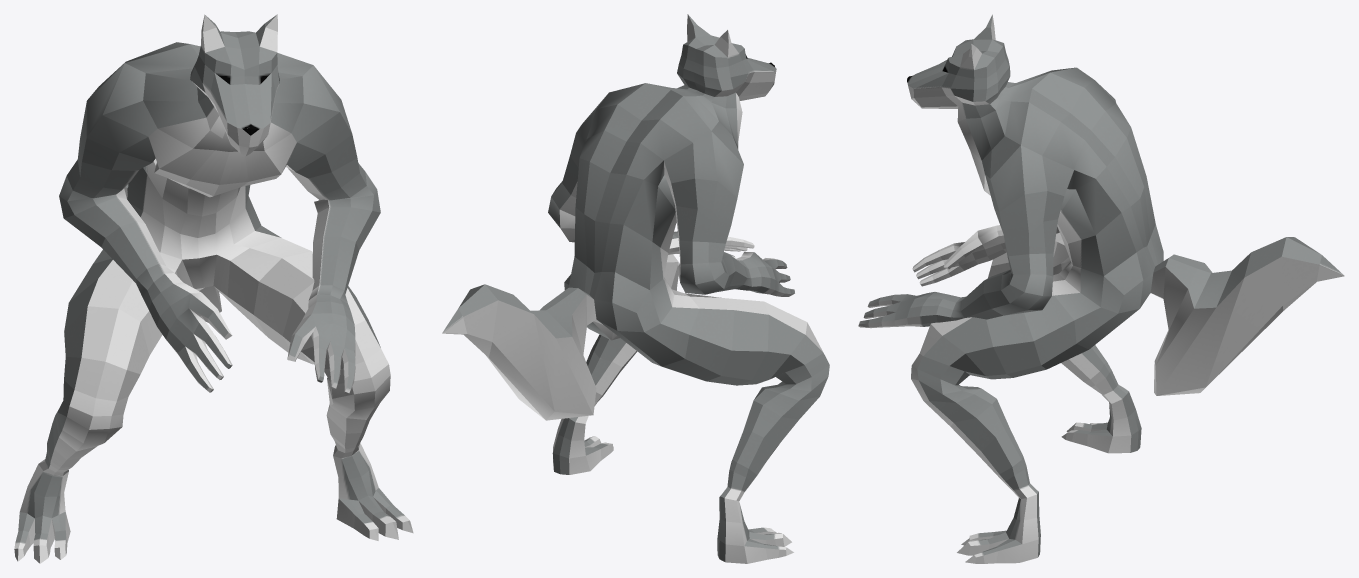
Rendered from WolfAttack(5).obj.
The picture shows the model from 3 angles, left to right: view 1: azimuth 30°, elevation 25°; view 2: azimuth 150°, elevation 25°; view 3: azimuth 270°, elevation 25°; orthographic projection. The views are drawn at different scales.
Visible parts, largest first — view 1: Box001; view 2: Box001; view 3: Box001.
Boxes of the visible parts, x1,y1,x2,y2 form: Box001: (14, 14, 413, 563); Box001: (442, 14, 829, 563); Box001: (858, 14, 1344, 563).
Bounding box in the file's own units: 75.34 × 122 × 114.
